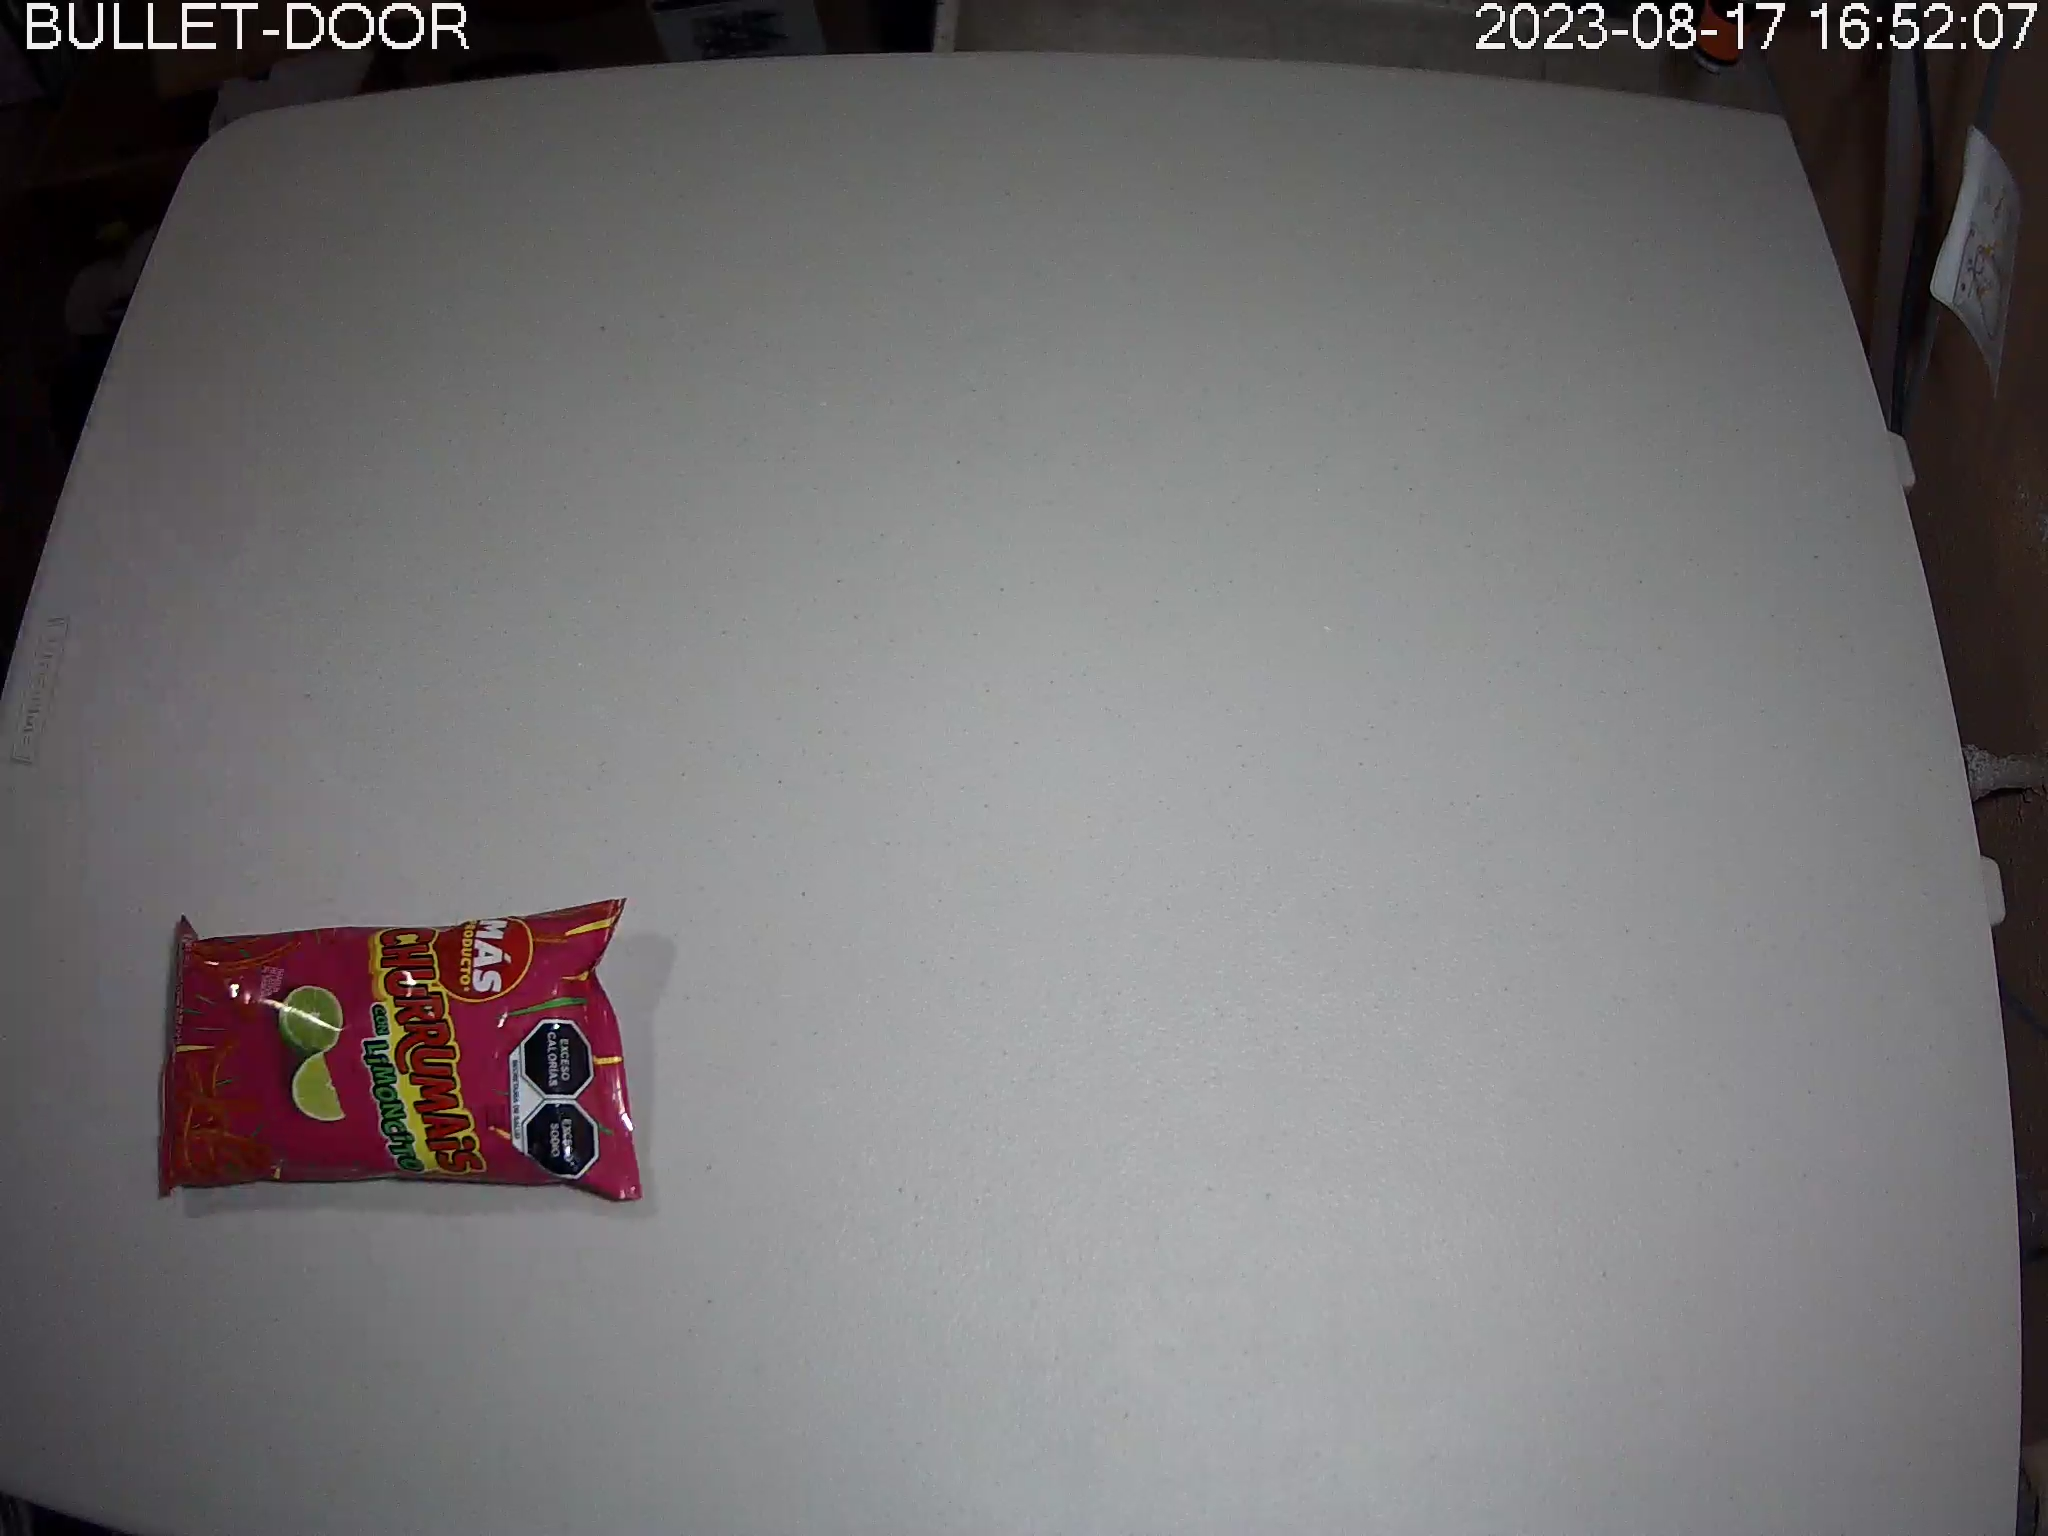Churrumais_70_F: (156, 895, 647, 1205)
